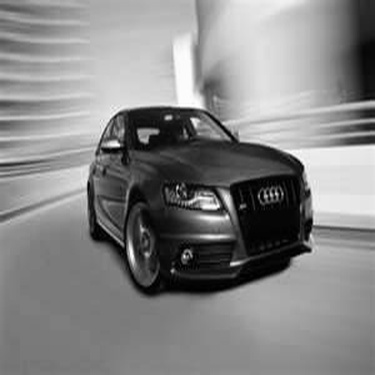car: (73, 96, 320, 299)
